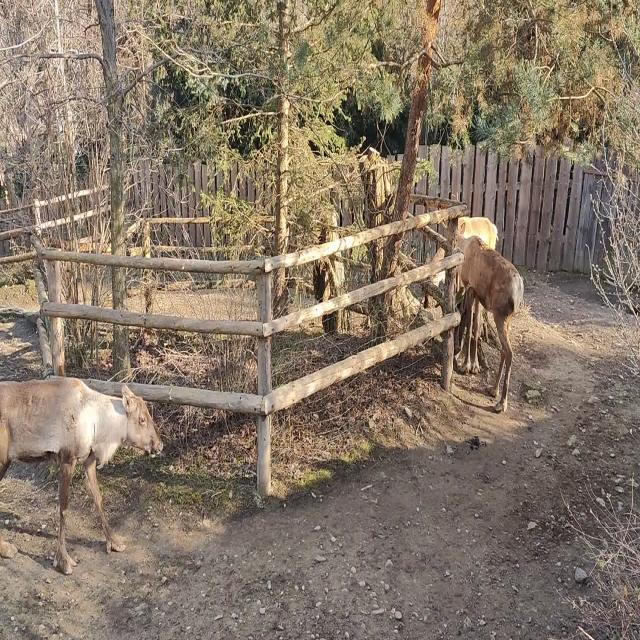deer: (0, 377, 163, 575), (442, 222, 524, 413), (423, 217, 499, 309)
